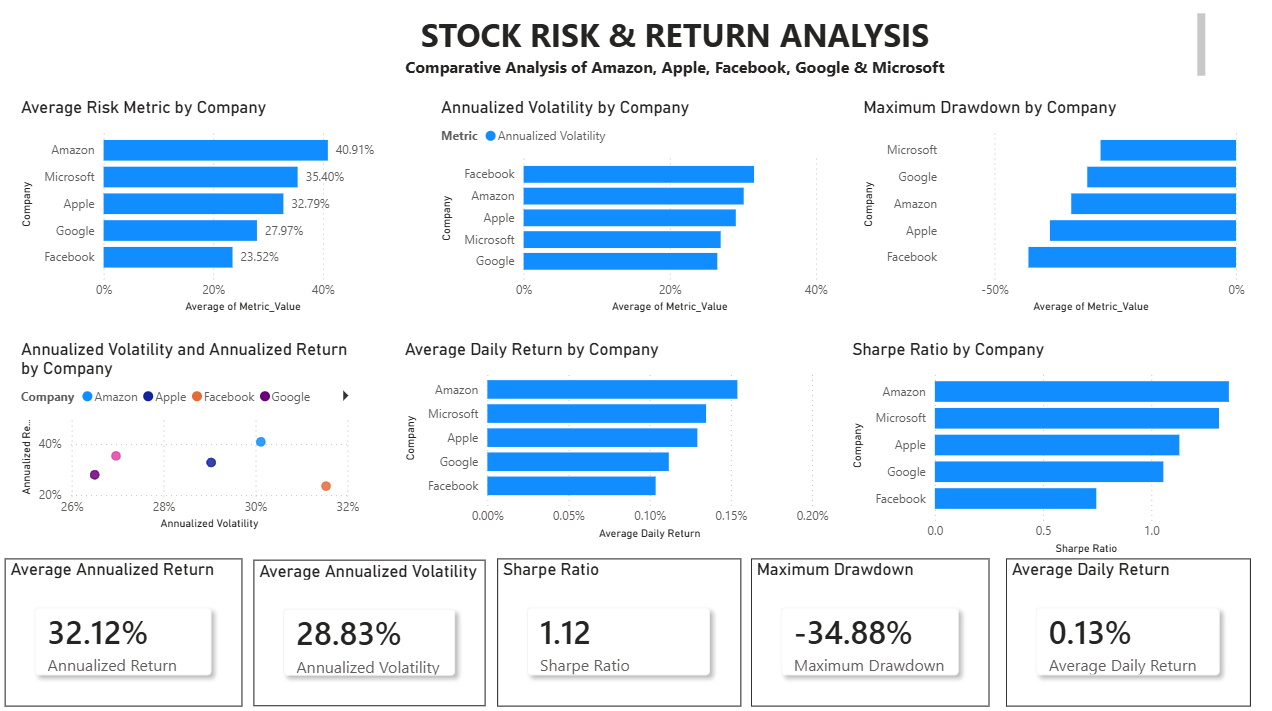

This screenshot's page, from the dashboard's own definition file:
{"tool":"powerbi","page":{"name":"Page 1","canvas":[1280,720],"ordinal":0},"visuals":[{"type":"clusteredBarChart","title":"Average Risk Metric by Company","fields":{"Category":["Risk_Return_Analysis.Company"],"Y":["Avg(Risk_Return_Analysis.Metric_Value)"]},"box":[20.2,101,383.7,220.8],"z":0},{"type":"clusteredBarChart","title":"Annualized Volatility by Company","fields":{"Category":["Risk_Return_Analysis.Company"],"Y":["Avg(Risk_Return_Analysis.Metric_Value)"],"Series":["Risk_Return_Analysis.Metric"]},"box":[440.2,101,397.1,220.8],"z":1000},{"type":"clusteredBarChart","title":"Sharpe Ratio by Company","fields":{"Category":["Risk_Return_Analysis.Company"],"Y":["Combined_Data.Sharpe Ratio"]},"box":[850.8,341.9,403.9,220.8],"z":2000},{"type":"clusteredBarChart","title":"Maximum Drawdown by Company","fields":{"Category":["Risk_Return_Analysis.Company"],"Y":["Avg(Risk_Return_Analysis.Metric_Value)"]},"box":[862.9,101,391.8,220.8],"z":3000},{"type":"scatterChart","fields":{"Series":["Risk_Return_Analysis.Company"],"Y":["Risk_Return_Analysis.Annualized Return"],"X":["Risk_Return_Analysis.Measure 2"]},"box":[20.2,341.9,348.7,196.6],"z":4000},{"type":"clusteredBarChart","fields":{"Category":["Risk_Return_Analysis.Company"],"Y":["Risk_Return_Analysis.Average Daily Return"]},"box":[403.9,341.9,433.5,206],"z":5000},{"type":"cardVisual","title":"Average Annualized Return","fields":{"Data":["Risk_Return_Analysis.Annualized Return"]},"box":[8.6,562.5,237.2,148],"z":6000},{"type":"cardVisual","title":"Average Annualized Volatility","fields":{"Data":["Risk_Return_Analysis.Annualized Volatility"]},"box":[258,563.7,232.3,146.7],"z":7000},{"type":"cardVisual","title":"Sharpe Ratio","fields":{"Data":["Combined_Data.Sharpe Ratio"]},"box":[500.8,562.7,243.7,148.1],"z":8000},{"type":"cardVisual","title":"Maximum Drawdown","fields":{"Data":["Risk_Return_Analysis.Maximum Drawdown"]},"box":[755.2,562.7,238.3,148.1],"z":9000},{"type":"cardVisual","title":"Average Daily Return","fields":{"Data":["Risk_Return_Analysis.Average Daily Return"]},"box":[1010.1,562.5,244.6,148],"z":10000},{"type":"textbox","box":[152.9,12.2,1061.4,73.4],"z":11000}]}

Visuals, with their boxes in screenshot pixels (x1, y1, x2, y2), scaled from the page's 1280x720 canvas onto the 1272x711 screenshot:
"Average Risk Metric by Company" clusteredBarChart: crop(20, 100, 401, 318)
"Annualized Volatility by Company" clusteredBarChart: crop(437, 100, 832, 318)
"Sharpe Ratio by Company" clusteredBarChart: crop(845, 338, 1247, 556)
"Maximum Drawdown by Company" clusteredBarChart: crop(858, 100, 1247, 318)
scatterChart - Risk_Return_Analysis.Company x Risk_Return_Analysis.Annualized Return: crop(20, 338, 367, 532)
clusteredBarChart - Risk_Return_Analysis.Company x Risk_Return_Analysis.Average Daily Return: crop(401, 338, 832, 541)
"Average Annualized Return" cardVisual: crop(9, 555, 244, 702)
"Average Annualized Volatility" cardVisual: crop(256, 557, 487, 702)
"Sharpe Ratio" cardVisual: crop(498, 556, 740, 702)
"Maximum Drawdown" cardVisual: crop(750, 556, 987, 702)
"Average Daily Return" cardVisual: crop(1004, 555, 1247, 702)
textbox: crop(152, 12, 1207, 85)
